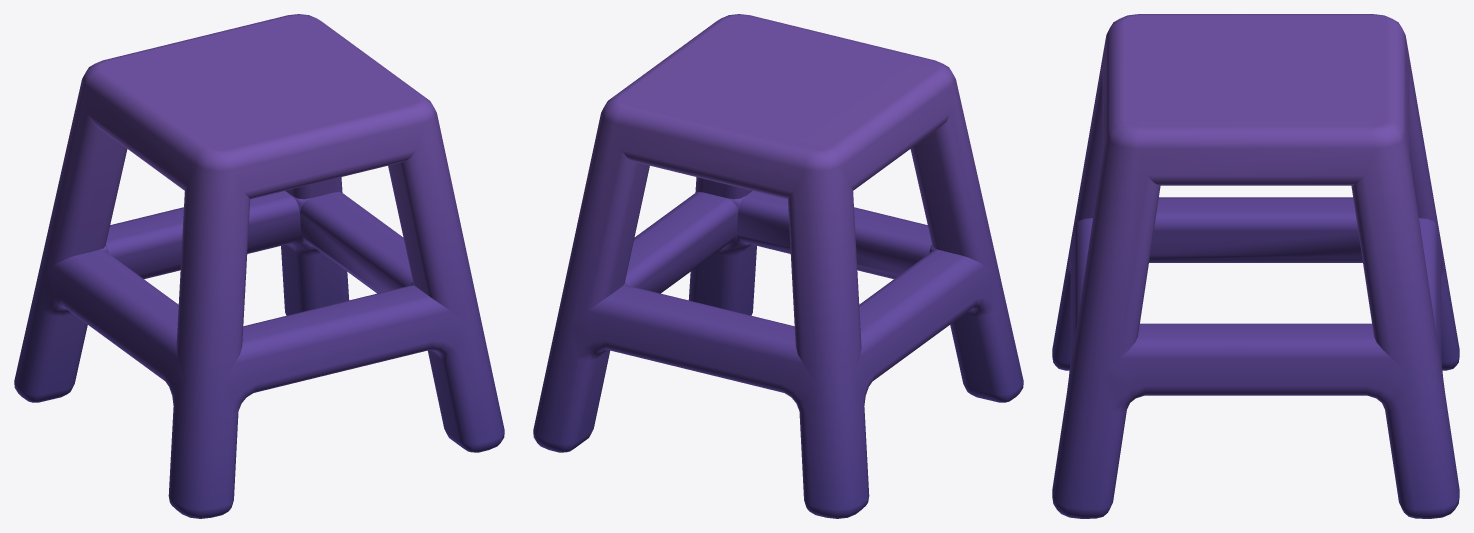
Rendered from Chair_20.glb.
3 views of the same model, side by side, from view 1: azimuth 30°, elevation 25°; view 2: azimuth 150°, elevation 25°; view 3: azimuth 270°, elevation 25° (orthographic). The views are drawn at different scales.
Visible parts, largest first — view 1: Chair_20; view 2: Chair_20; view 3: Chair_20.
Boxes of the visible parts, x1,y1,x2,y2 form: Chair_20: (14, 14, 504, 518); Chair_20: (533, 14, 1023, 518); Chair_20: (1052, 14, 1459, 518).
Bounding box in the file's own units: 0.5145 × 0.51 × 0.5145.
1 material, 1 textured.
